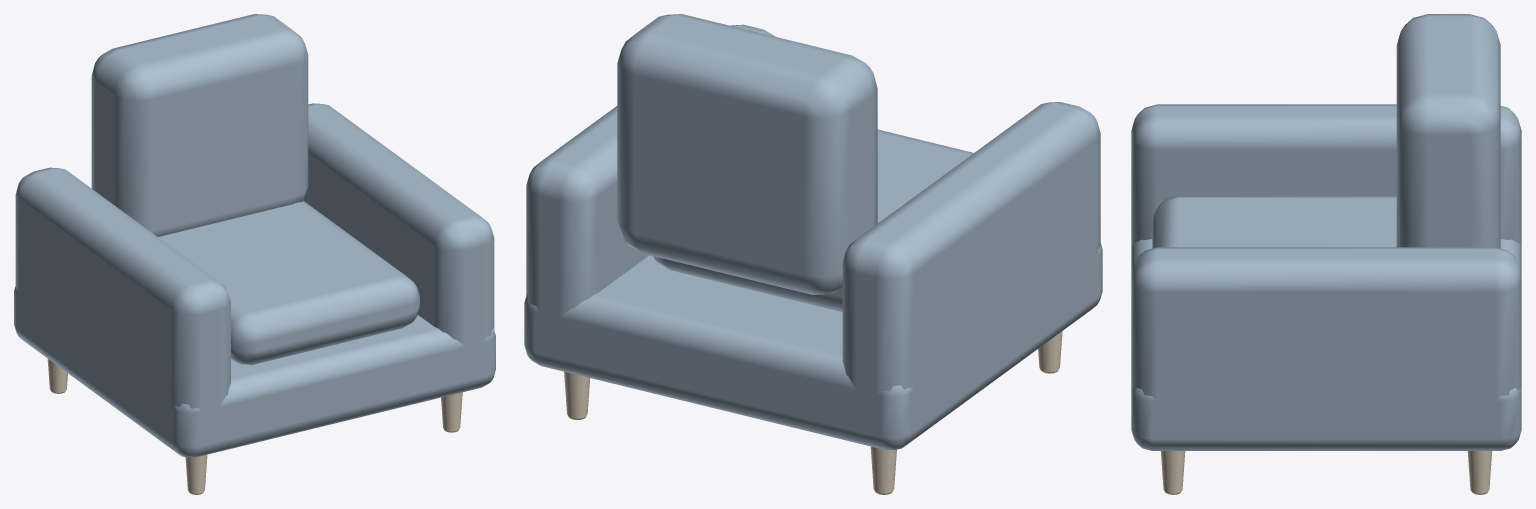
The model's file is armchair.glb.
3 views of the same model, side by side, from view 1: azimuth 30°, elevation 25°; view 2: azimuth 150°, elevation 25°; view 3: azimuth 270°, elevation 25° (orthographic). The views are drawn at different scales.
Parts seen in each view (by area): view 1: armchair; view 2: armchair; view 3: armchair.
Part boxes in pixels (x1,y1,x2,y2): armchair: [14, 14, 495, 494]; armchair: [524, 14, 1102, 494]; armchair: [1131, 14, 1521, 494].
Bounding box in the file's own units: 0.79 × 0.78 × 0.75.
